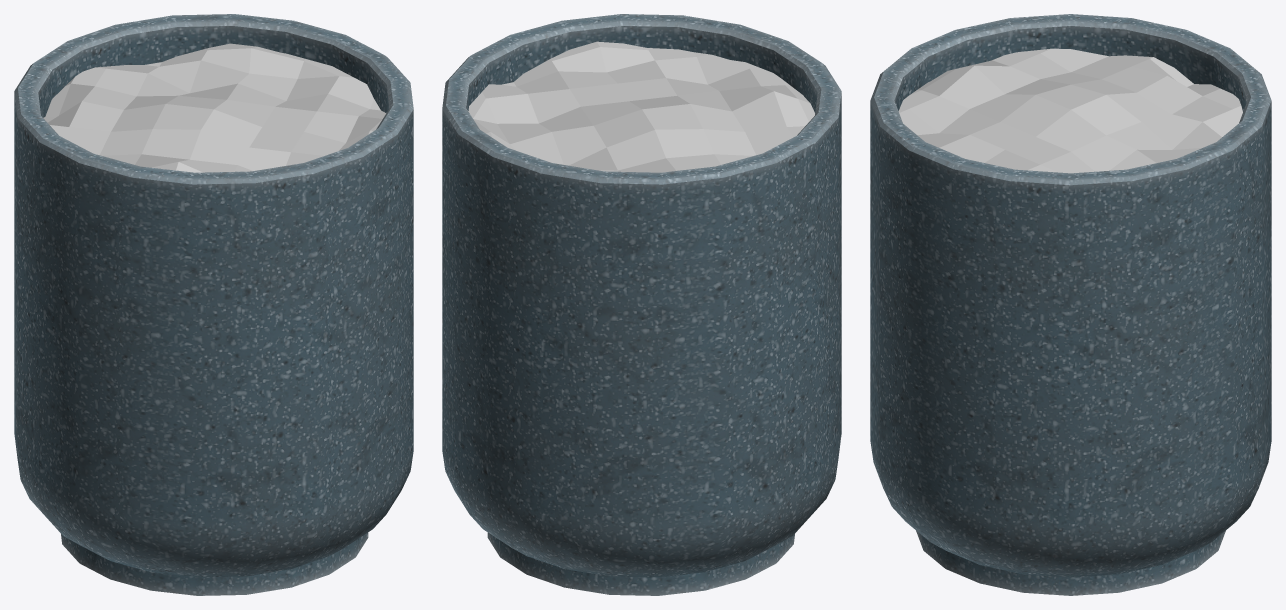
File: Vase_Mod_01.fbx
The picture shows the model from 3 angles, left to right: view 1: azimuth 30°, elevation 25°; view 2: azimuth 150°, elevation 25°; view 3: azimuth 270°, elevation 25°; orthographic projection.
Parts seen in each view (by area): view 1: vase; view 2: vase; view 3: vase.
Part boxes in pixels (x1,y1,x2,y2): vase: (14, 14, 413, 595); vase: (442, 14, 841, 595); vase: (870, 14, 1271, 595).
Size of the model in its own units: 114 by 136 by 114.
